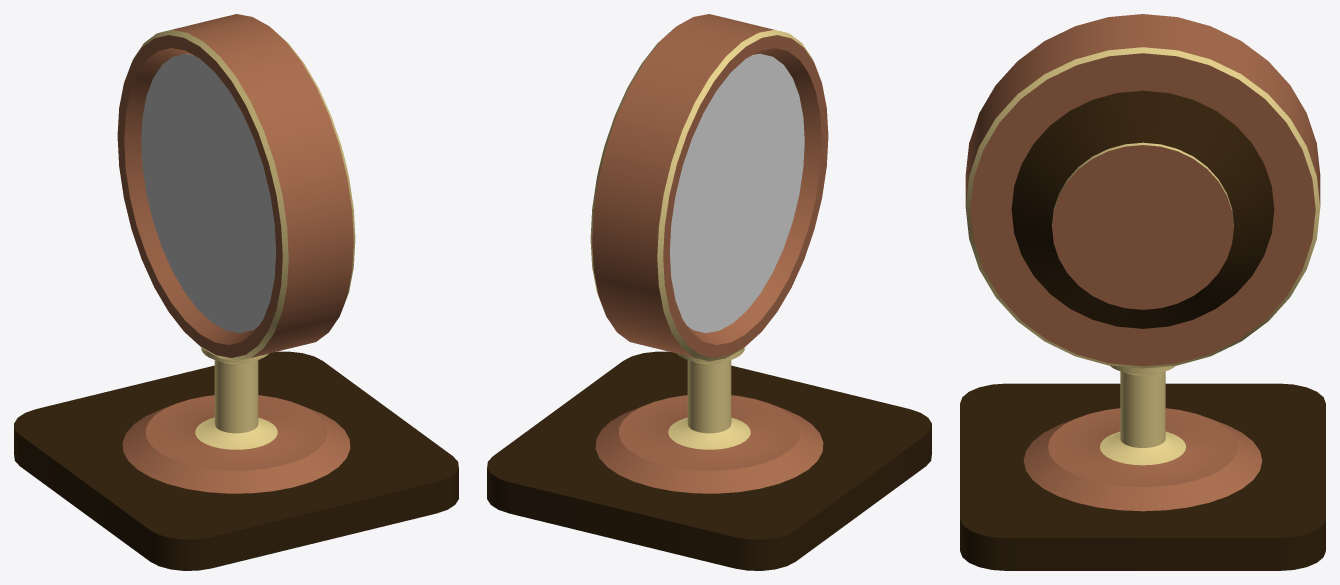
File: Mirror.fbx
The picture shows the model from 3 angles, left to right: view 1: azimuth 30°, elevation 25°; view 2: azimuth 150°, elevation 25°; view 3: azimuth 270°, elevation 25°; orthographic projection. The views are drawn at different scales.
Visible parts, largest first — view 1: Mirror, Mirror surface; view 2: Mirror, Mirror surface; view 3: Mirror.
Boxes of the visible parts, x1,y1,x2,y2 form: Mirror: [14, 14, 458, 570]; Mirror surface: [141, 53, 276, 332]; Mirror: [487, 14, 931, 570]; Mirror surface: [669, 53, 804, 332]; Mirror: [960, 14, 1325, 570].
Bounding box in the file's own units: 0.0607 × 0.0848 × 0.0607.
